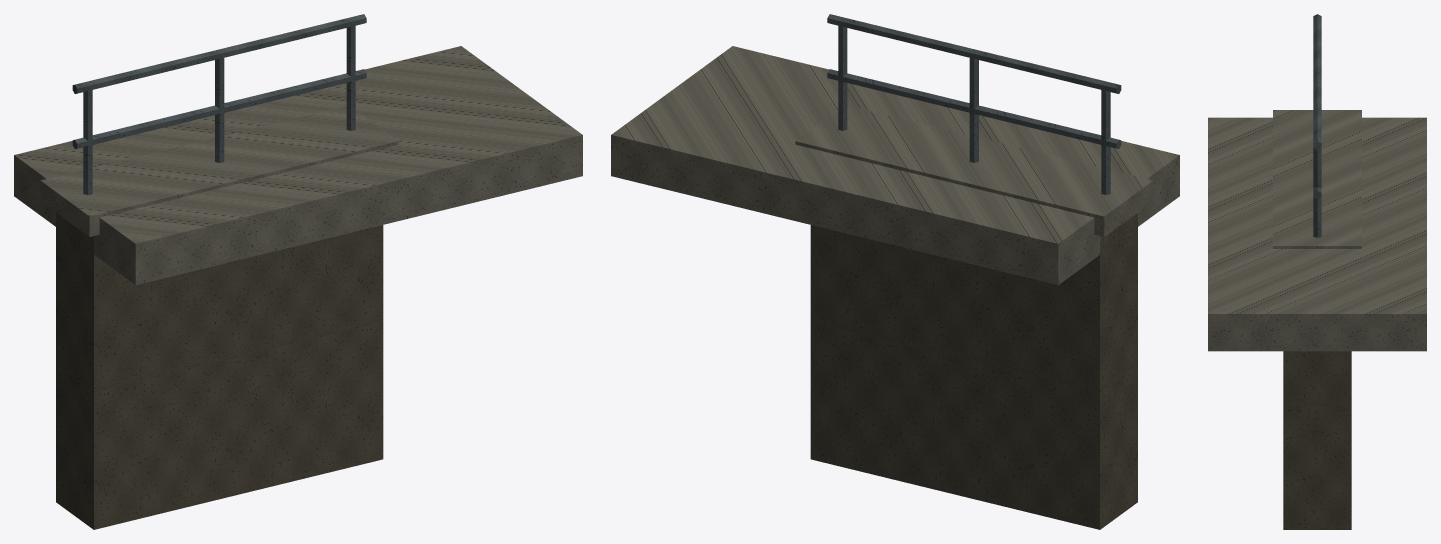
The model's file is PROP-D6C6B12E97F6_lod2.glb.
The picture shows the model from 3 angles, left to right: view 1: azimuth 30°, elevation 25°; view 2: azimuth 150°, elevation 25°; view 3: azimuth 270°, elevation 25°; orthographic projection. The views are drawn at different scales.
Visible parts, largest first — view 1: masonry_support.001, cantilever_deck.001, coping.001, railing_rails.001, railing_posts.001; view 2: masonry_support.001, cantilever_deck.001, coping.001, railing_rails.001, railing_posts.001; view 3: cantilever_deck.001, masonry_support.001, coping.001, railing_rails.001, railing_posts.001.
Part boxes in pixels (x1,y1,x2,y2): masonry_support.001: [56, 213, 383, 529]; cantilever_deck.001: [14, 46, 582, 285]; coping.001: [40, 105, 398, 236]; railing_rails.001: [72, 14, 366, 148]; railing_posts.001: [83, 23, 355, 194]; masonry_support.001: [810, 213, 1137, 529]; cantilever_deck.001: [611, 46, 1179, 285]; coping.001: [795, 105, 1153, 236]; railing_rails.001: [827, 14, 1121, 148]; railing_posts.001: [838, 23, 1110, 194]; cantilever_deck.001: [1208, 117, 1426, 351]; masonry_support.001: [1283, 351, 1351, 529]; coping.001: [1273, 110, 1361, 248]; railing_rails.001: [1313, 14, 1321, 199]; railing_posts.001: [1313, 148, 1321, 237].
Bounding box in the file's own units: 3.48 × 3.13 × 1.6.
Materials: 3 (3 with a texture image).
